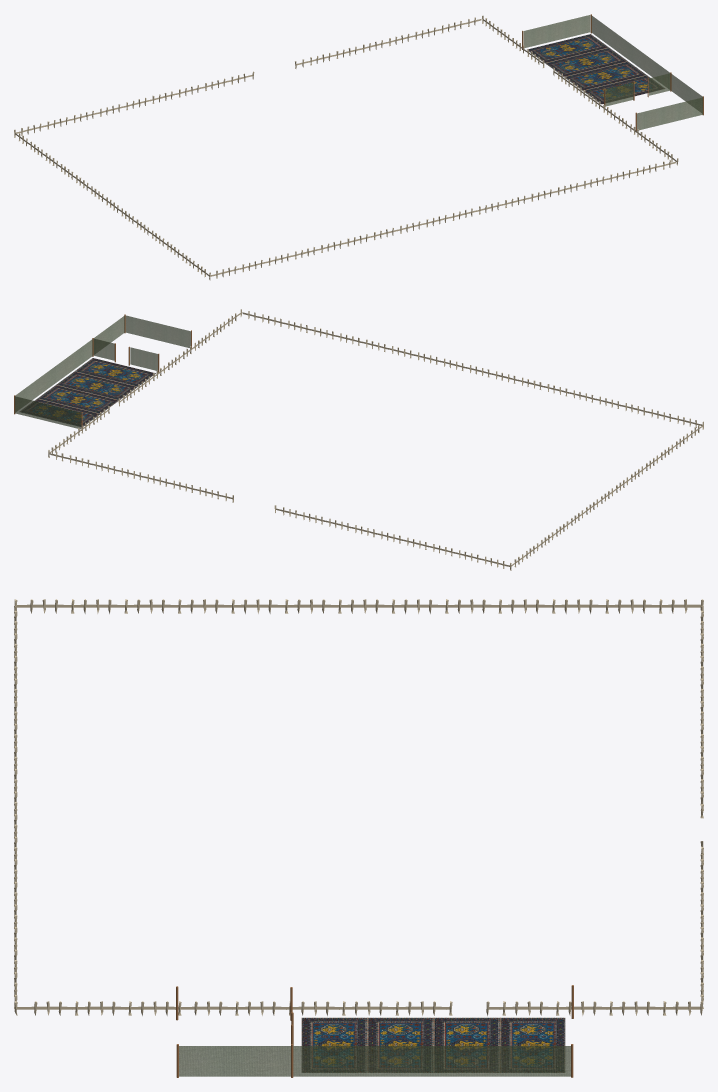
The model's file is arenawall.glb.
3 renders of one model, top to bottom at view 1: azimuth 30°, elevation 25°; view 2: azimuth 150°, elevation 25°; view 3: azimuth 270°, elevation 25°, orthographic. The views are drawn at different scales.
Parts seen in each view (by area): view 1: Cloner.7, Plane, Plane.001; view 2: Cloner.7, Plane, Plane.001; view 3: Plane.001, Plane, Cloner.7.
Part boxes in pixels (x1,y1,x2,y2): Cloner.7: (14, 15, 678, 280); Plane: (523, 15, 702, 130); Plane.001: (527, 34, 664, 104); Cloner.7: (48, 309, 703, 570); Plane: (15, 315, 190, 429); Plane.001: (20, 358, 155, 426); Plane.001: (301, 1017, 565, 1072); Plane: (179, 1046, 570, 1076); Cloner.7: (14, 599, 703, 1015).
Bounding box in the file's own units: 94.57 × 3.13 × 59.32.
Materials: 4 (2 with a texture image).
